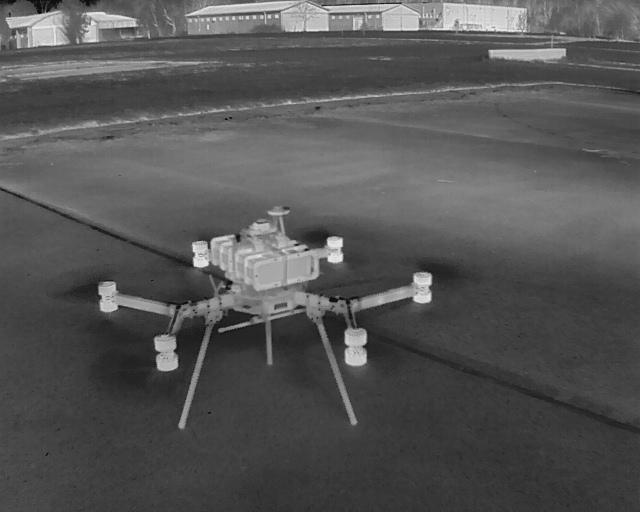drone: (34, 190, 491, 447)
